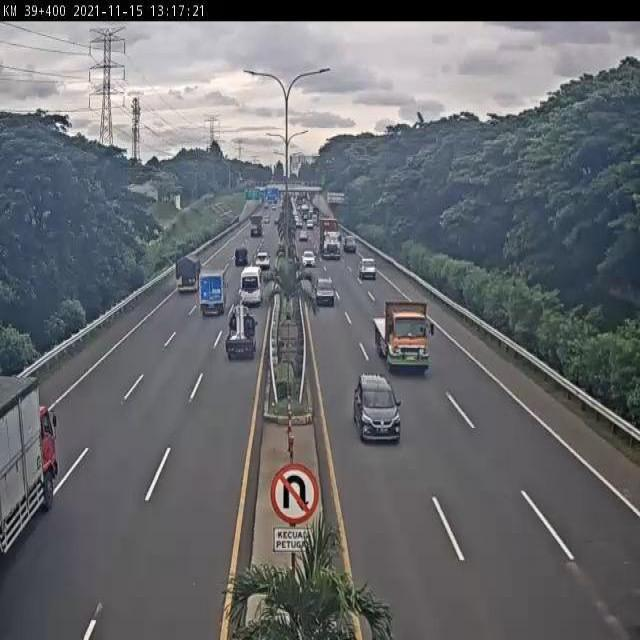car: (351, 373, 404, 444), (314, 275, 337, 308), (357, 255, 378, 283), (253, 249, 271, 272), (233, 244, 250, 267), (300, 248, 317, 267)
truck: (0, 372, 59, 560), (371, 295, 433, 373), (225, 308, 257, 361), (197, 268, 229, 320), (172, 252, 201, 296), (238, 266, 265, 310)
